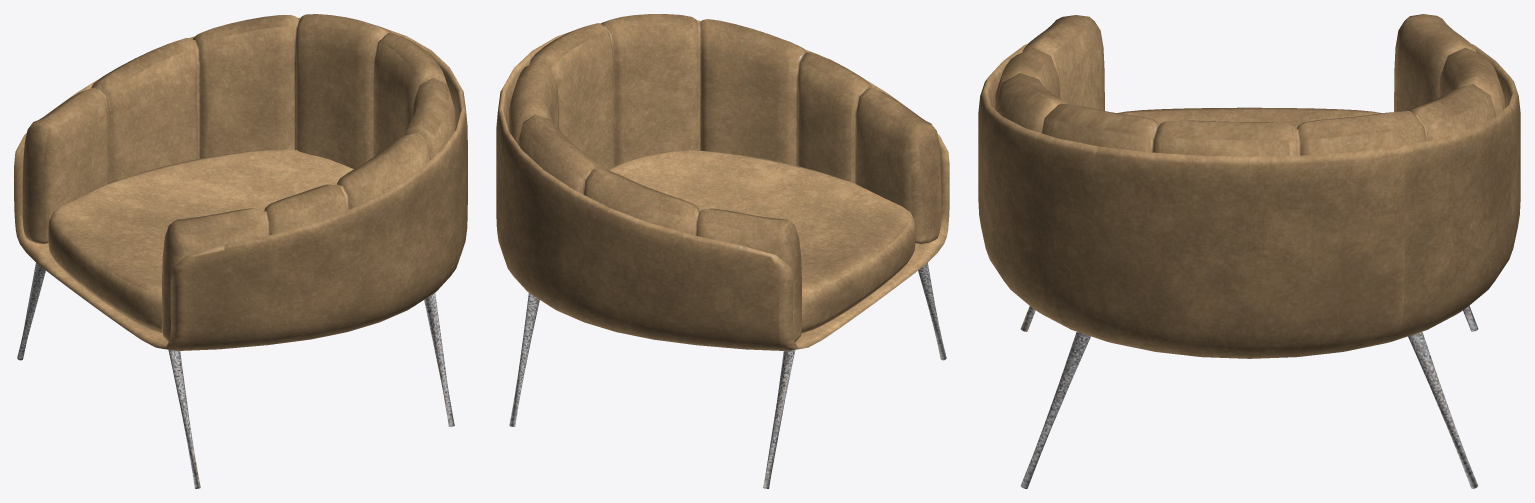
Rendered from sofachair1.glb.
The picture shows the model from 3 angles, left to right: view 1: azimuth 30°, elevation 25°; view 2: azimuth 150°, elevation 25°; view 3: azimuth 270°, elevation 25°; orthographic projection. The views are drawn at different scales.
Visible parts, largest first — view 1: Cube.001, Cube, Cube.002, Cylinder; view 2: Cube.001, Cube, Cube.002, Cylinder; view 3: Cube, Cube.001, Cylinder, Cube.002.
Part boxes in pixels (box(x1,y1,x2,y2)): Cube.001: box(22, 14, 455, 341); Cube: box(14, 17, 467, 350); Cube.002: box(48, 149, 353, 333); Cylinder: box(17, 263, 454, 488); Cube.001: box(508, 14, 941, 342); Cube: box(496, 20, 949, 350); Cube.002: box(608, 150, 915, 333); Cylinder: box(509, 263, 946, 488); Cube: box(978, 44, 1520, 358); Cube.001: box(995, 14, 1505, 156); Cylinder: box(1020, 306, 1478, 488); Cube.002: box(1117, 107, 1381, 129).
Size of the model in its own units: 168 by 143 by 179.
Materials: 1 (1 with a texture image).
